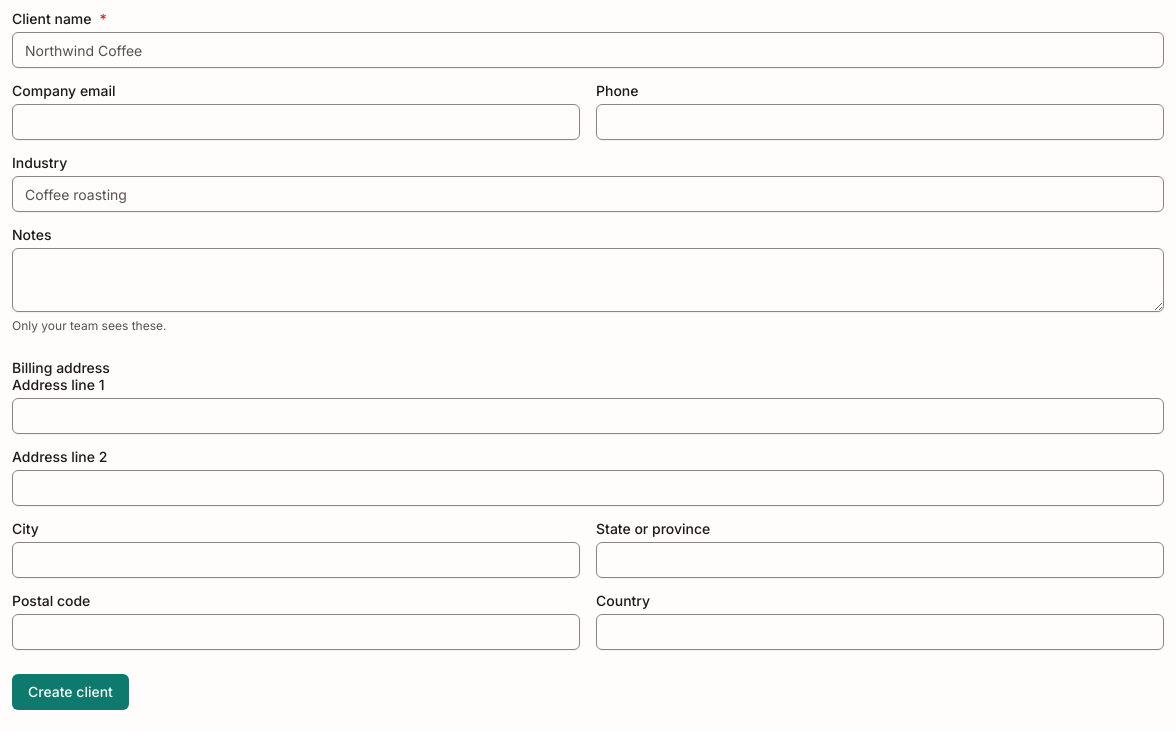
Test: ClientForm, creating › shows a field error beside its field and keeps the name typed in (AC-3)
Type "Acme" into the field labelled "Client name *" at (588, 50), box [12,32,1164,68]
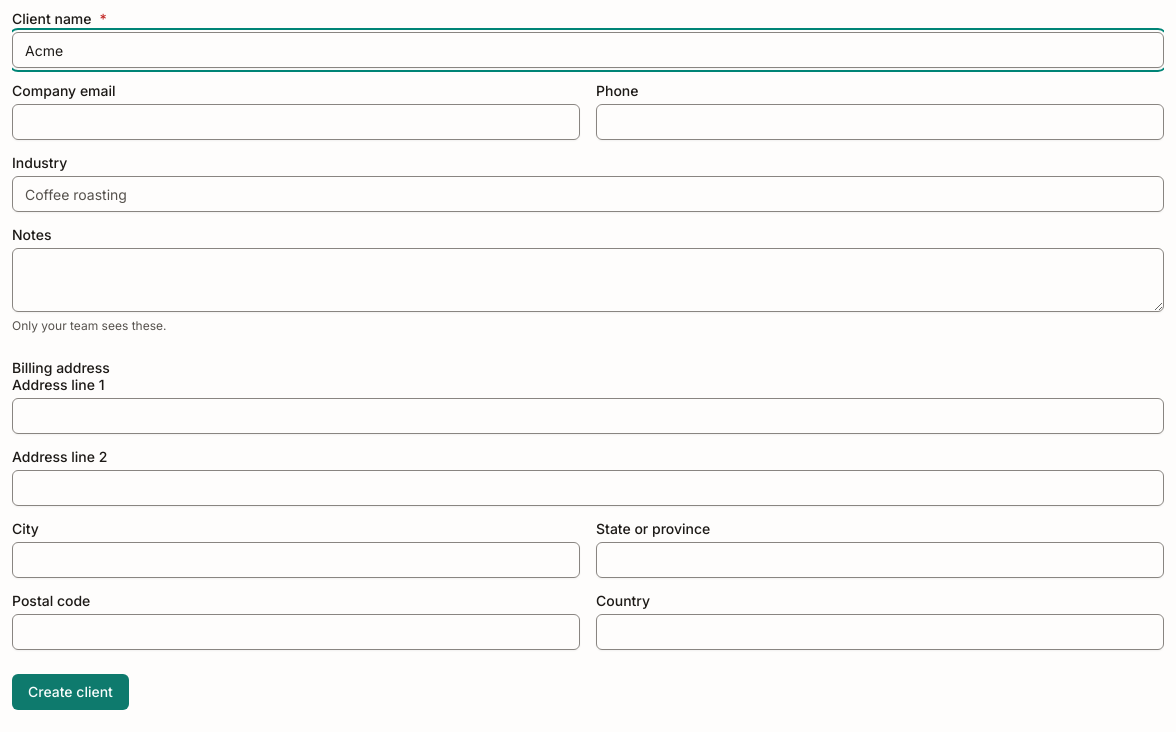
Type "not-an-email" into the field labelled "Company email" at (296, 122), box [12,104,580,140]
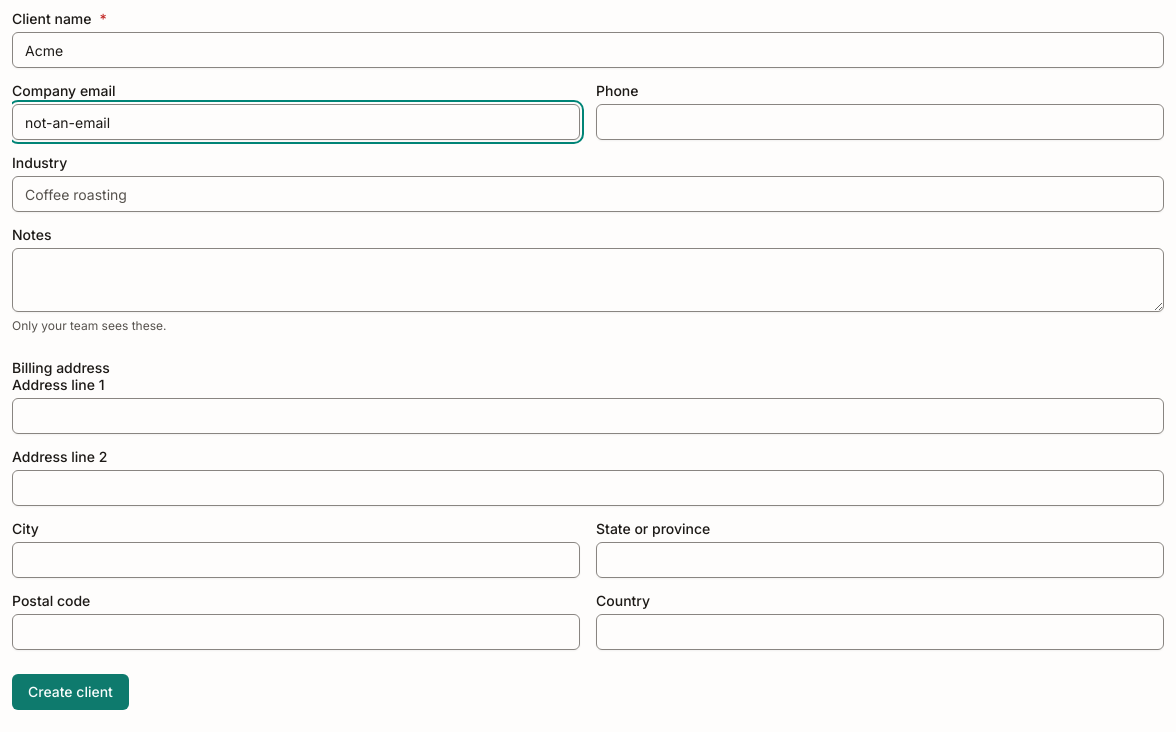
Click the button "Create client" at (70, 692), box [12,674,129,710]
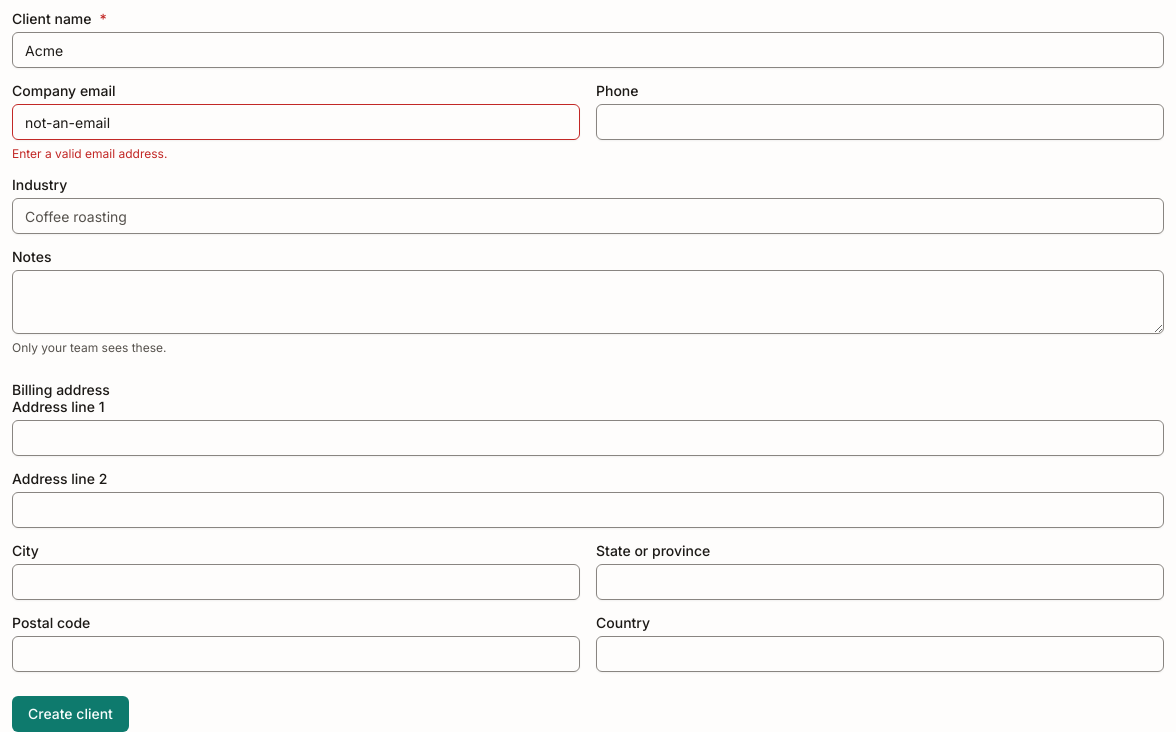
Check: the text "Enter a valid email address." is shown, box [12,146,167,161]
